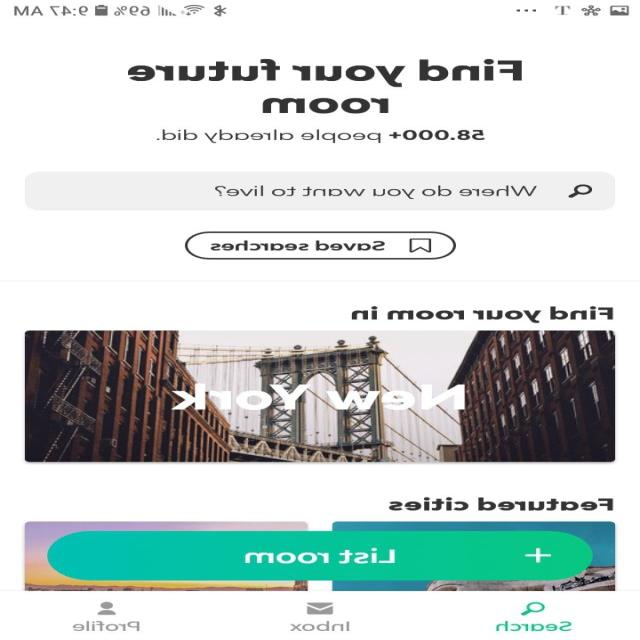EditText: (26, 172, 616, 210)
Icon: (521, 601, 546, 615), (306, 602, 334, 614), (568, 184, 592, 198), (98, 601, 118, 614)
Image: (25, 330, 616, 462)
Text: (128, 59, 523, 114), (172, 383, 466, 410), (157, 129, 486, 143), (215, 185, 537, 199), (352, 306, 614, 323), (388, 496, 614, 511), (495, 620, 572, 631), (72, 620, 140, 631), (289, 620, 352, 631)
TextButton: (48, 531, 593, 580), (185, 231, 457, 259)
